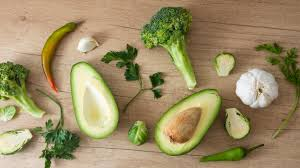aguacate: (145, 88, 225, 156), (65, 59, 119, 143)
